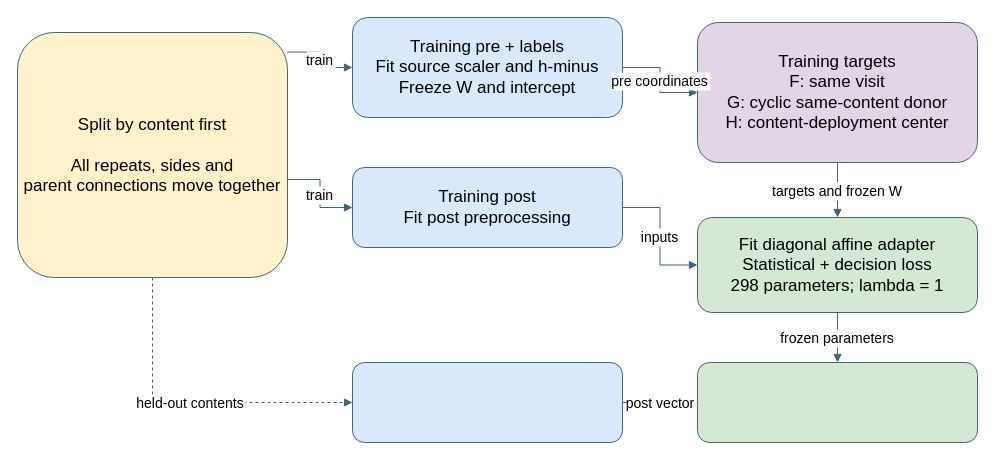
Image size: 995x460. Some labels were removed from this diagram. Each missing label, with the box of its shape:
Frozen adapter then h-minus Activity probabilities: (696, 362, 978, 442)
Held-out post only Training-fitted preprocessing: (352, 362, 622, 442)
